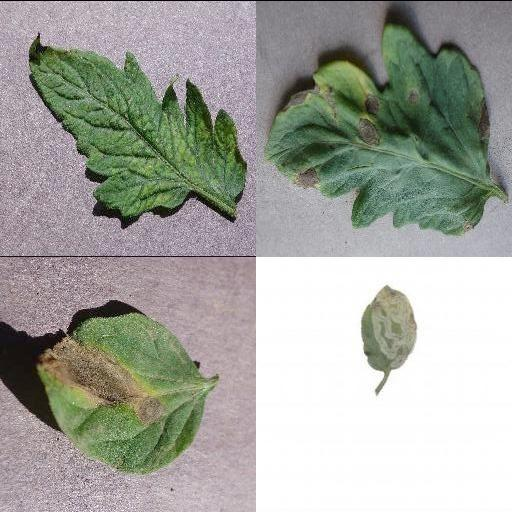Early Blight: (262, 23, 492, 237), (36, 311, 212, 477)
Leaf Miner: (363, 285, 420, 373)
Mosaic Virus: (28, 32, 248, 220)
